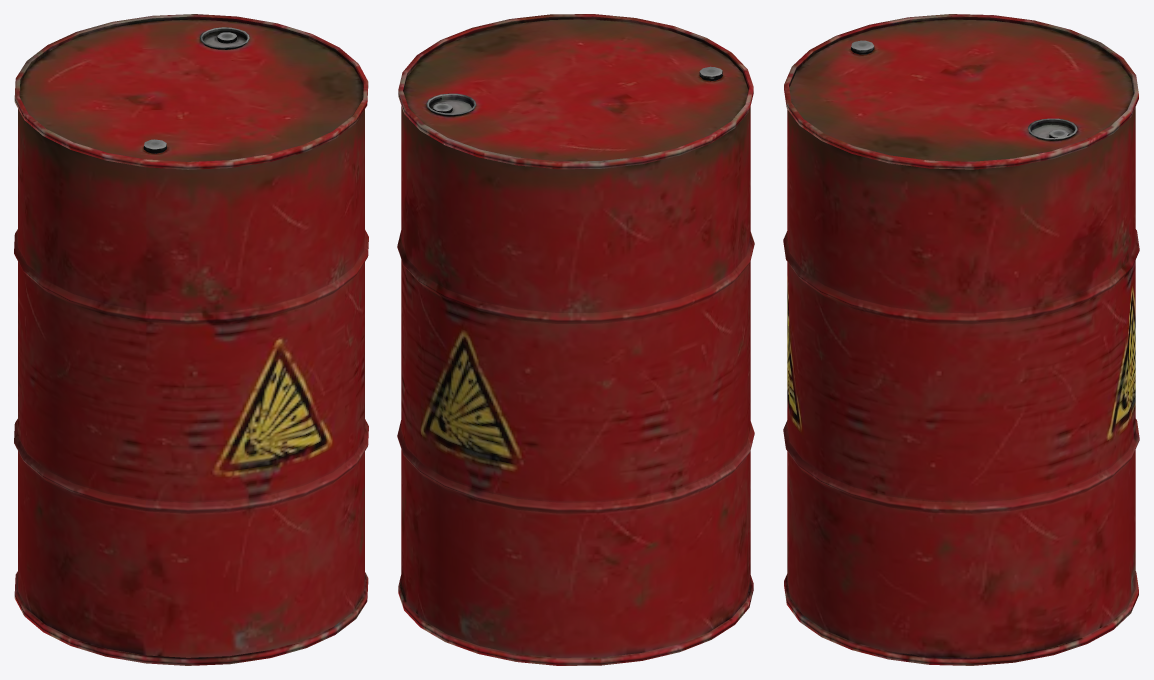
The model's file is barrel.glb.
3 renders of one model, left to right at view 1: azimuth 30°, elevation 25°; view 2: azimuth 150°, elevation 25°; view 3: azimuth 270°, elevation 25°, orthographic.
Parts seen in each view (by area): view 1: Barrel_01; view 2: Barrel_01; view 3: Barrel_01.
Boxes of the visible parts, x1,y1,x2,y2 form: Barrel_01: [14, 14, 368, 665]; Barrel_01: [397, 14, 754, 665]; Barrel_01: [783, 14, 1139, 665].
Size of the model in its own units: 0.5627 by 0.88 by 0.5627.
Materials: 1 (1 with a texture image).
